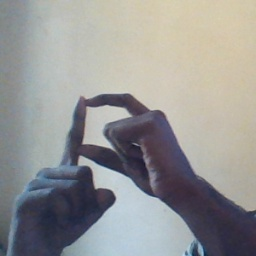D: (42, 88, 166, 202)
